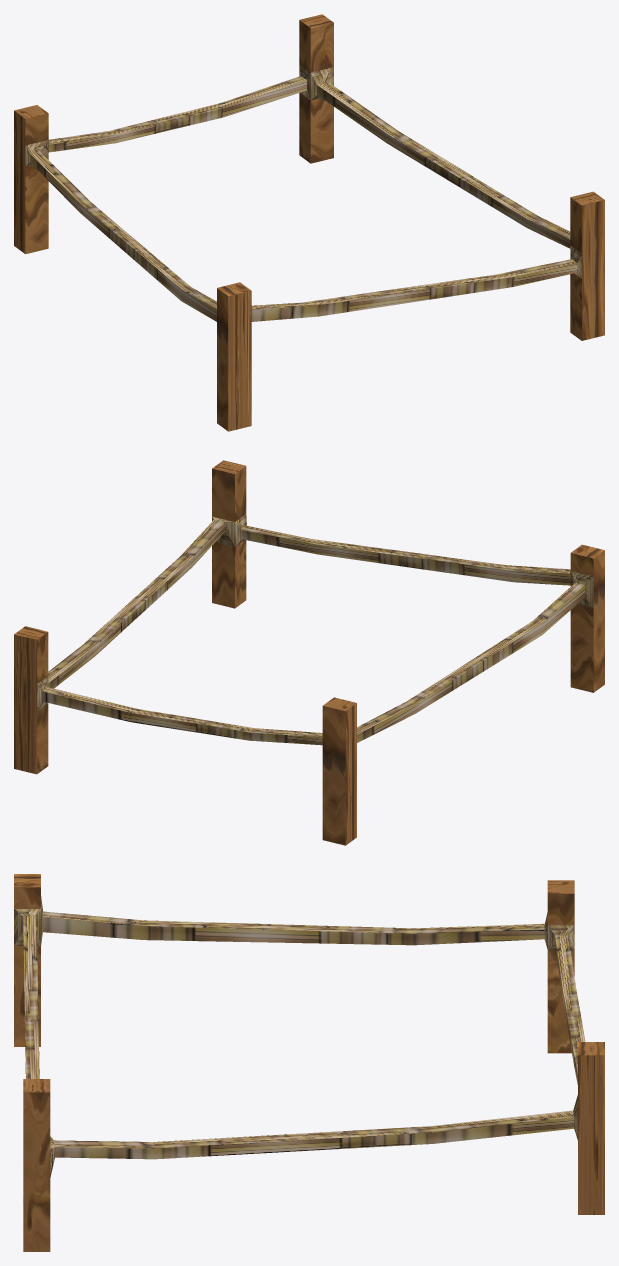
Rendered from Baustelle.fbx.
3 renders of one model, top to bottom at view 1: azimuth 30°, elevation 25°; view 2: azimuth 150°, elevation 25°; view 3: azimuth 270°, elevation 25°, orthographic. The views are drawn at different scales.
Visible parts, largest first — view 1: Cube.002; view 2: Cube.002; view 3: Cube.002.
Boxes of the visible parts, bbox=[...] form: Cube.002: bbox=[14, 14, 604, 431]; Cube.002: bbox=[14, 460, 604, 845]; Cube.002: bbox=[14, 874, 604, 1251].
Size of the model in its own units: 737 by 278 by 842.
